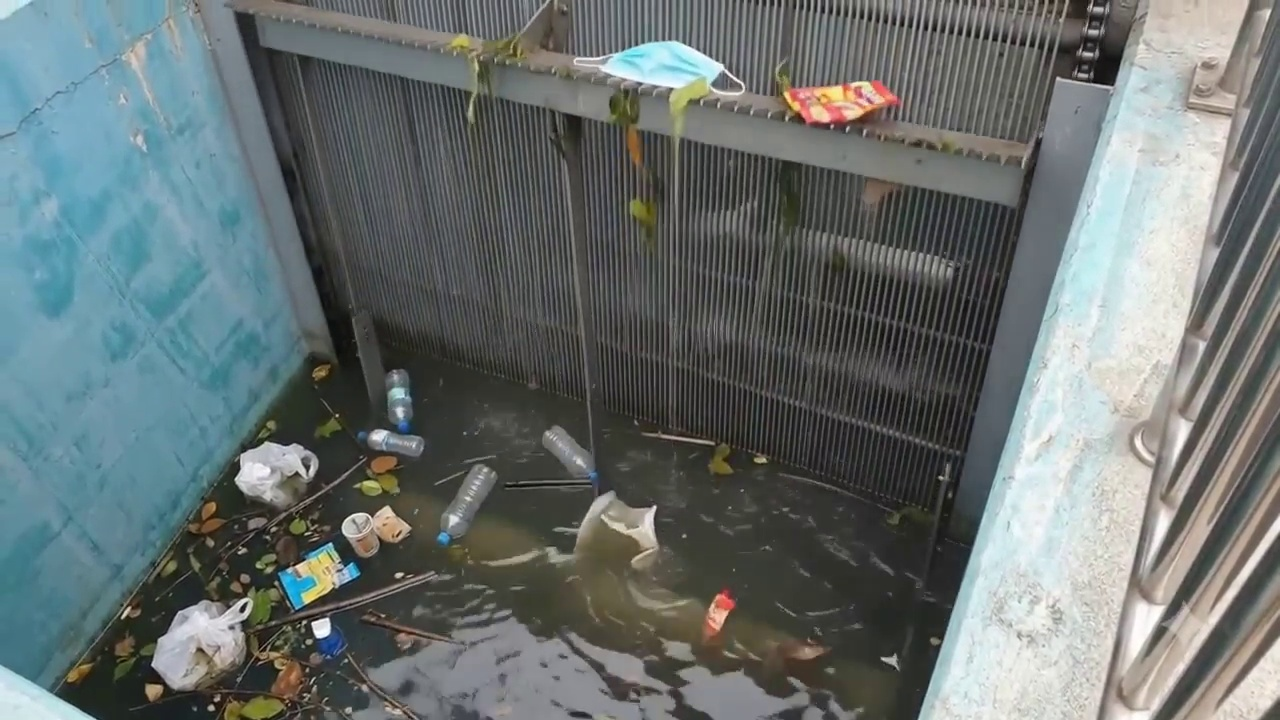debris: (152, 598, 256, 690), (575, 40, 745, 96), (575, 491, 659, 568), (235, 442, 317, 511), (278, 542, 360, 610), (435, 463, 496, 546), (341, 506, 411, 557), (543, 425, 598, 487), (358, 429, 424, 463), (703, 590, 735, 639), (311, 610, 345, 656), (851, 82, 896, 108)
